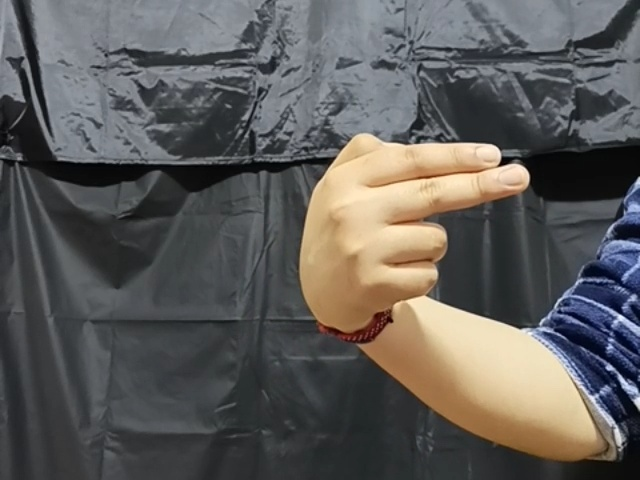H: (292, 131, 532, 340)
